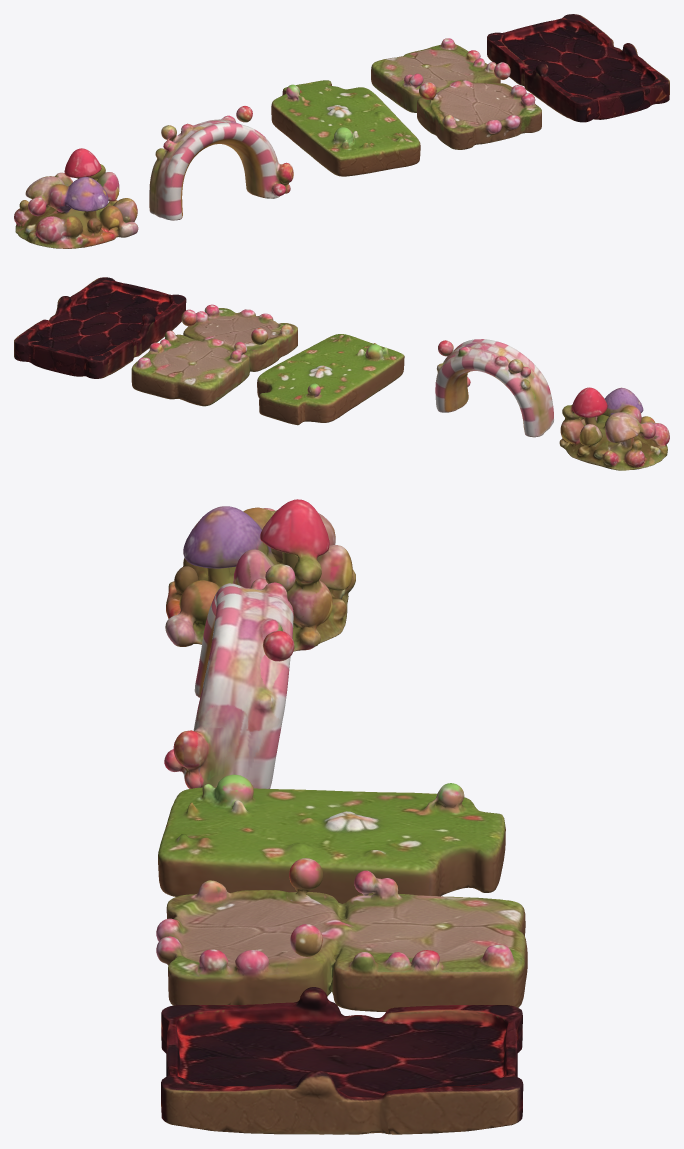
The model's file is Meshy_AI_Candyland_Garden_Tile_1019072456_texture.fbx.
3 views of the same model, one above another, from view 1: azimuth 30°, elevation 25°; view 2: azimuth 150°, elevation 25°; view 3: azimuth 270°, elevation 25° (orthographic). The views are drawn at different scales.
Parts seen in each view (by area): view 1: Mesh_0; view 2: Mesh_0; view 3: Mesh_0.
Part boxes in pixels (left/top/right/bottom): Mesh_0: left=14, top=14, right=669, bottom=248; Mesh_0: left=14, top=277, right=669, bottom=470; Mesh_0: left=156, top=499, right=527, bottom=1134.
Size of the model in its own units: 190 by 23.24 by 51.78.
Materials: 1 (1 with a texture image).
